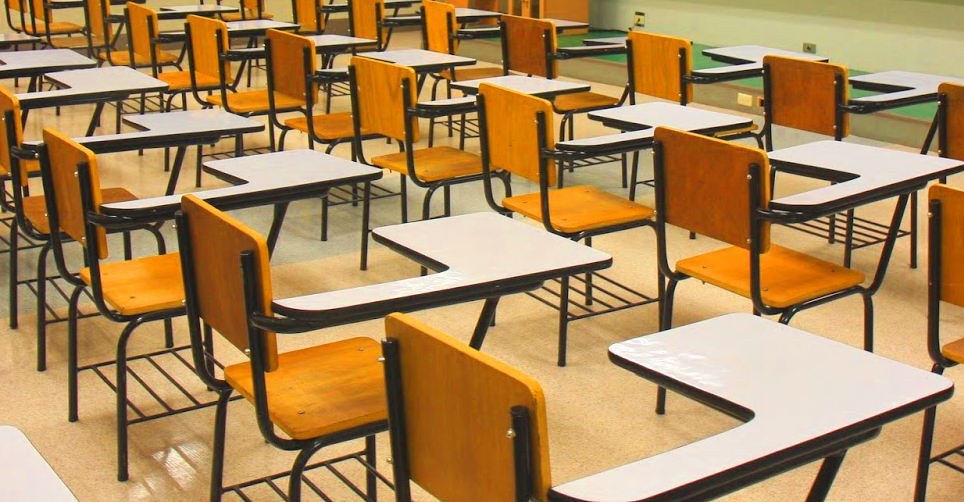desk_066.jpg: (368, 277, 958, 500), (166, 161, 255, 460)
